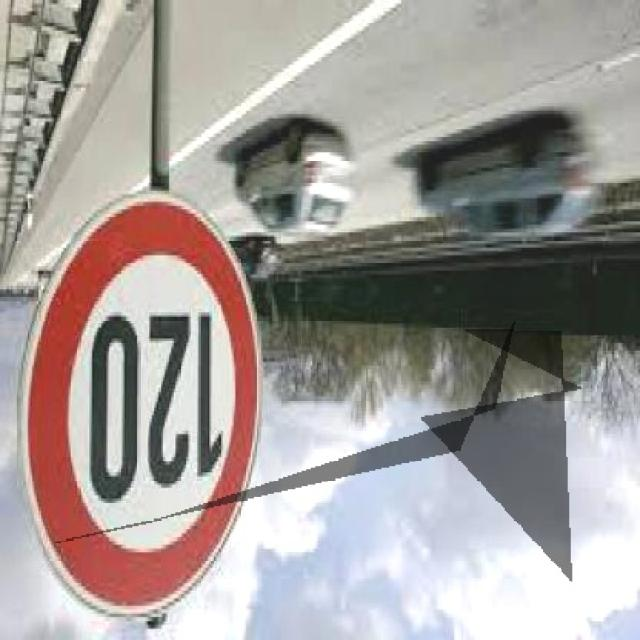forb_speed_over_120: (25, 195, 260, 610)
